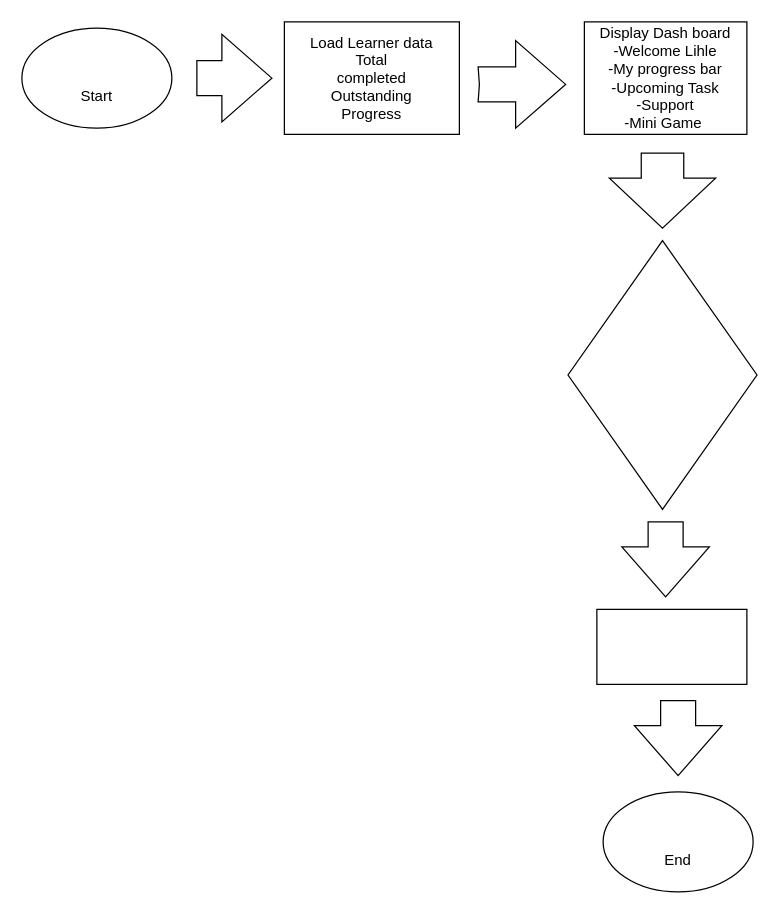
The diagram is 780 pixels wide and 914 high, and some of its shapes have lost their labels. Each missing label, with the centre of its shape:
"Navigate to selected page" goes at pixel 671 646.
"What does user click? -View all task -Book support -Play game -Progress" goes at pixel 662 374.
